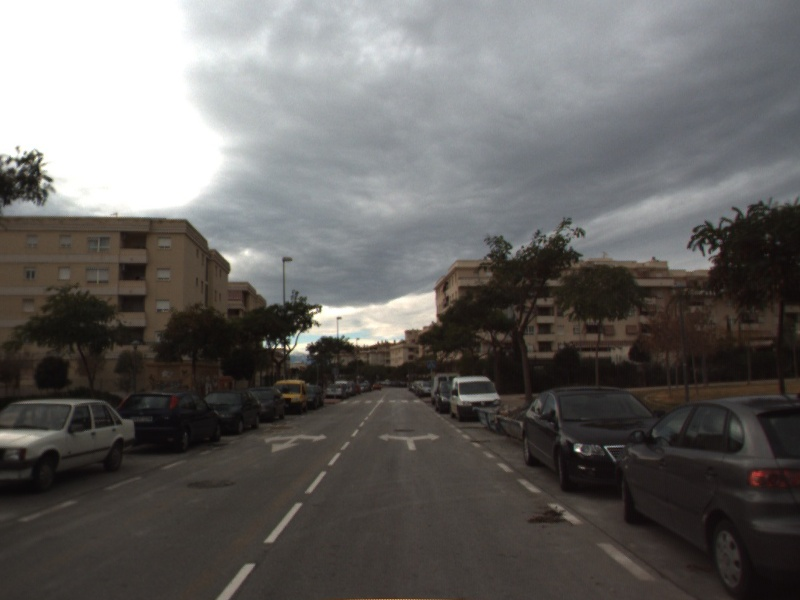LEFT_RIGHT: (376, 430, 442, 452)
